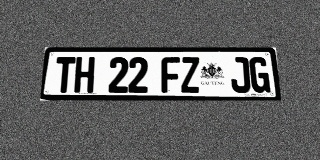2: (108, 57, 128, 93), (128, 57, 148, 93)
F: (161, 57, 180, 93)
G: (249, 57, 270, 93)
H: (74, 57, 95, 93)
J: (230, 57, 251, 93)
T: (54, 57, 76, 93)
Z: (180, 57, 200, 93)
